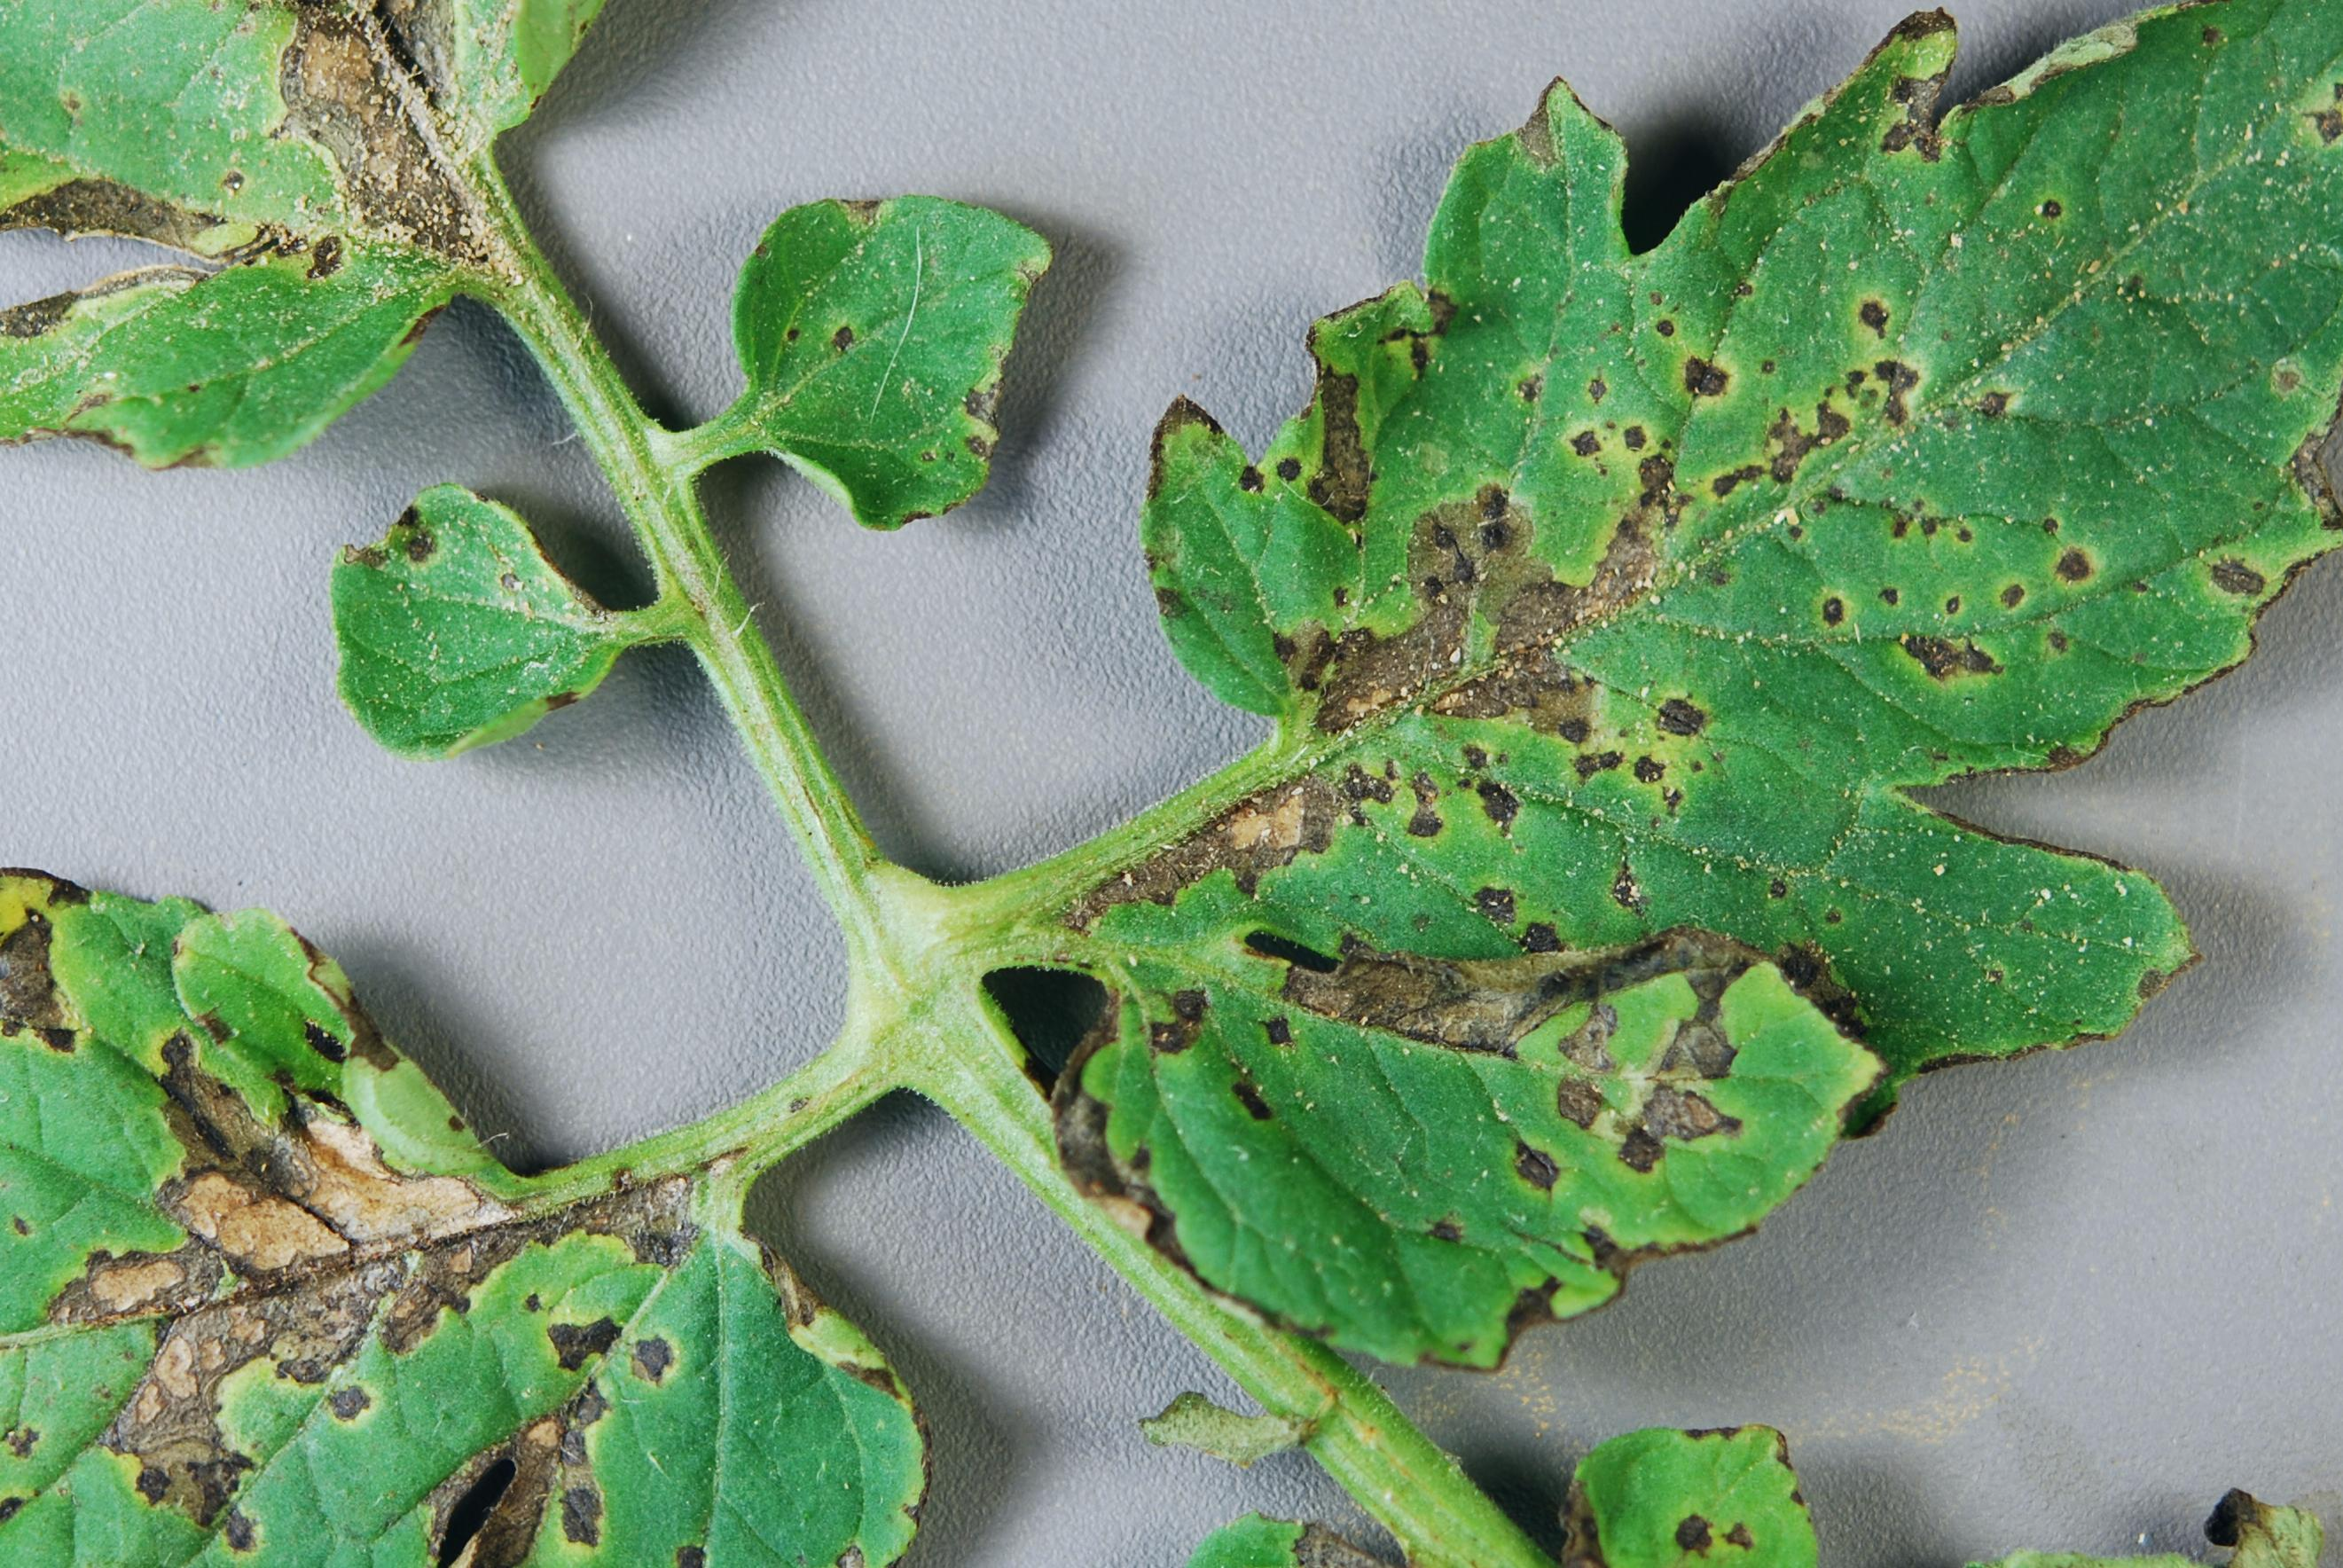Tomato Septoria leaf spot: (1039, 0, 2343, 1106), (0, 815, 983, 1568), (0, 0, 784, 695), (1034, 857, 1937, 1375), (672, 128, 1160, 525)
